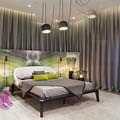copymove: (38, 1, 54, 33)
removal: (79, 1, 106, 19)
spliced: (1, 89, 12, 109)
